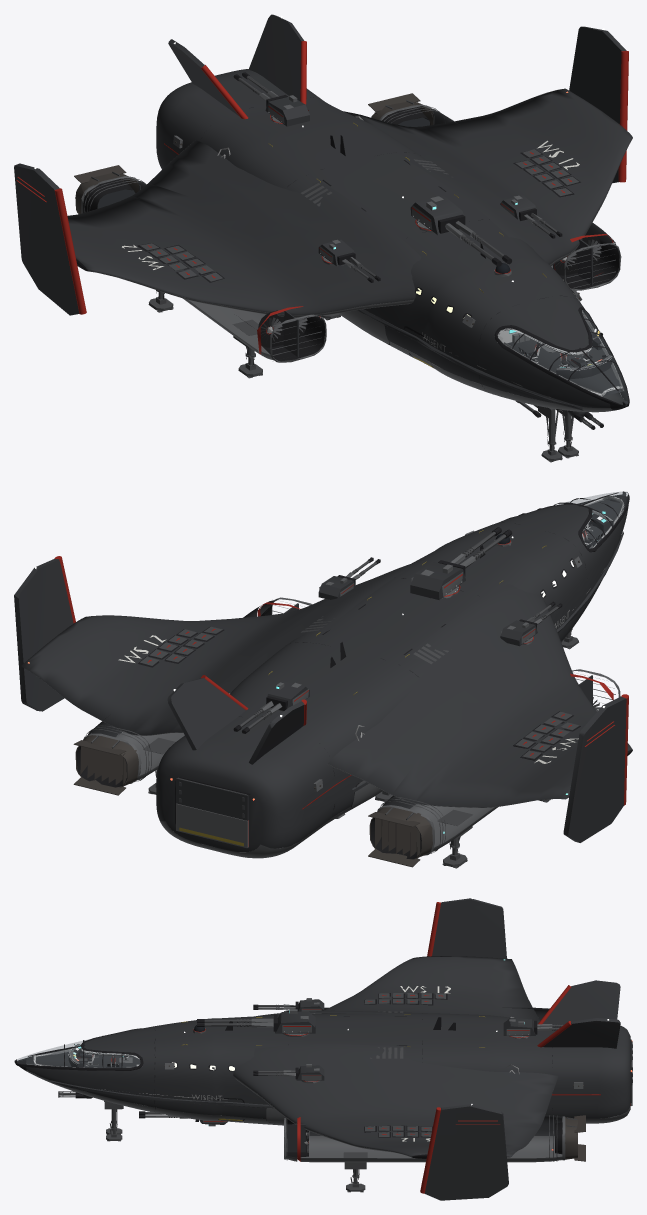
The model's file is WisentFern.a539565c05.glb.
3 renders of one model, top to bottom at view 1: azimuth 30°, elevation 25°; view 2: azimuth 150°, elevation 25°; view 3: azimuth 270°, elevation 25°, orthographic. The views are drawn at different scales.
Parts seen in each view (by area): view 1: Fluegel links.001, Einlasstrennwand.002, Antenne.003, Abgasschlitz.020, Sichtband Glas.001, Austrittsgelaender.002, Einlassgitter.014, Block.006, Fahrwerkslicht.008, Zellendeckel.020, Duesenklappe.004, Brueckenboden.001 (+4 smaller); view 2: Fluegel links.001, Einlasstrennwand.002, Duesenklappe.004, Antenne.003, Block.006, Einlassgitter.014, Zellendeckel.020, Torblatt.001, Rampenaussenseite.001, Fahrwerkslicht.008, Sichtband Glas.001, Austrittsgelaender.002 (+2 smaller); view 3: Fluegel links.001, Einlasstrennwand.002, Antenne.003, Block.006, Austrittsgelaender.002, Sichtband Glas.001, Einlassgitter.014, Zellendeckel.020, Fahrwerkslicht.008, Brueckenboden.001, Duesenklappe.004, Anzeigestuetze.002.
Part boxes in pixels (x1,y1,x2,y2): Fluegel links.001: (67,69,632,412); Einlasstrennwand.002: (14,14,626,417); Antenne.003: (137,72,629,429); Abgasschlitz.020: (83,106,619,366); Sichtband Glas.001: (498,310,627,404); Austrittsgelaender.002: (16,41,628,363); Einlassgitter.014: (84,75,615,427); Block.006: (81,91,621,427); Fahrwerkslicht.008: (148,290,578,462); Zellendeckel.020: (140,149,579,281); Duesenklappe.004: (74,93,580,324); Brueckenboden.001: (507,327,624,396); Fluegel links.001: (20,496,632,858); Einlasstrennwand.002: (14,531,626,842); Duesenklappe.004: (73,560,579,867); Antenne.003: (138,491,629,824); Block.006: (83,530,620,855); Einlassgitter.014: (85,530,615,853); Zellendeckel.020: (139,626,579,758); Torblatt.001: (176,778,248,820); Rampenaussenseite.001: (176,804,246,847); Fahrwerkslicht.008: (143,629,578,868); Sichtband Glas.001: (557,492,628,547); Austrittsgelaender.002: (54,530,628,809); Fluegel links.001: (17,956,630,1162); Einlasstrennwand.002: (50,898,620,1200); Antenne.003: (14,993,631,1137); Block.006: (62,998,583,1160); Austrittsgelaender.002: (78,902,600,1193); Sichtband Glas.001: (15,1039,139,1067); Einlassgitter.014: (59,1004,577,1161); Zellendeckel.020: (364,993,445,1136); Fahrwerkslicht.008: (104,1101,367,1192); Brueckenboden.001: (34,1052,140,1067); Duesenklappe.004: (164,1065,585,1161); Anzeigestuetze.002: (34,1044,133,1067).
Size of the model in its own units: 66.29 by 20.35 by 83.29.
